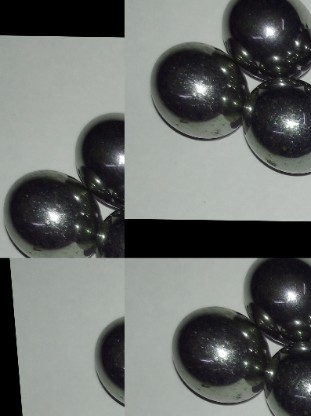ironball: (161, 304, 270, 415), (150, 41, 243, 145), (0, 167, 100, 258), (221, 0, 311, 83), (247, 71, 309, 179), (239, 257, 311, 346), (70, 110, 121, 199), (255, 345, 311, 415), (86, 312, 125, 411)
